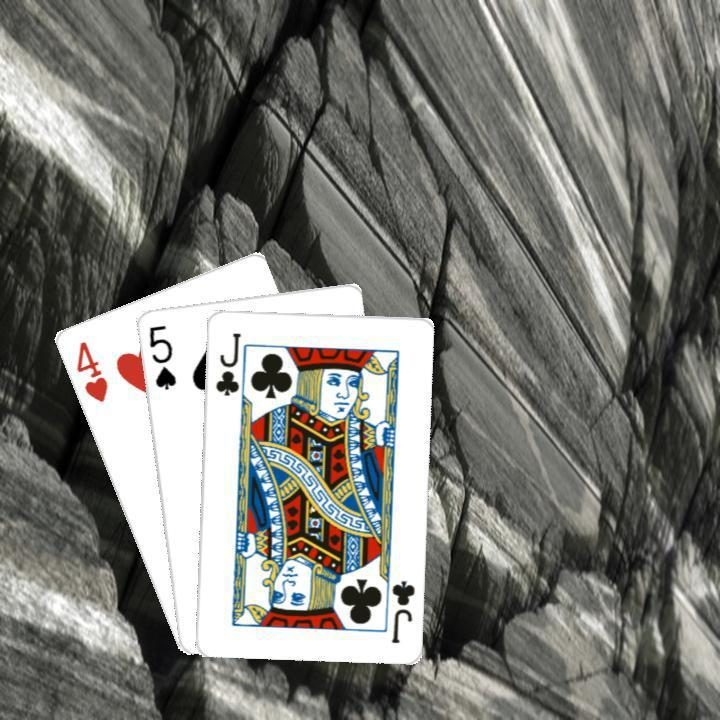4: (71, 336, 110, 404)
5: (144, 320, 177, 391)
J: (210, 327, 242, 397), (386, 575, 417, 644)
